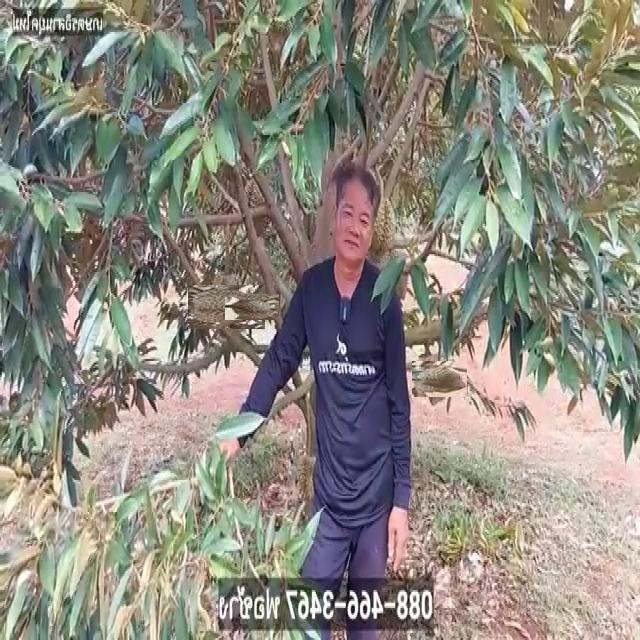durian: (197, 276, 257, 338), (361, 191, 400, 270), (417, 356, 463, 402), (231, 287, 272, 327)
